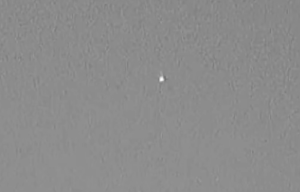Target: (159, 77, 163, 82)
